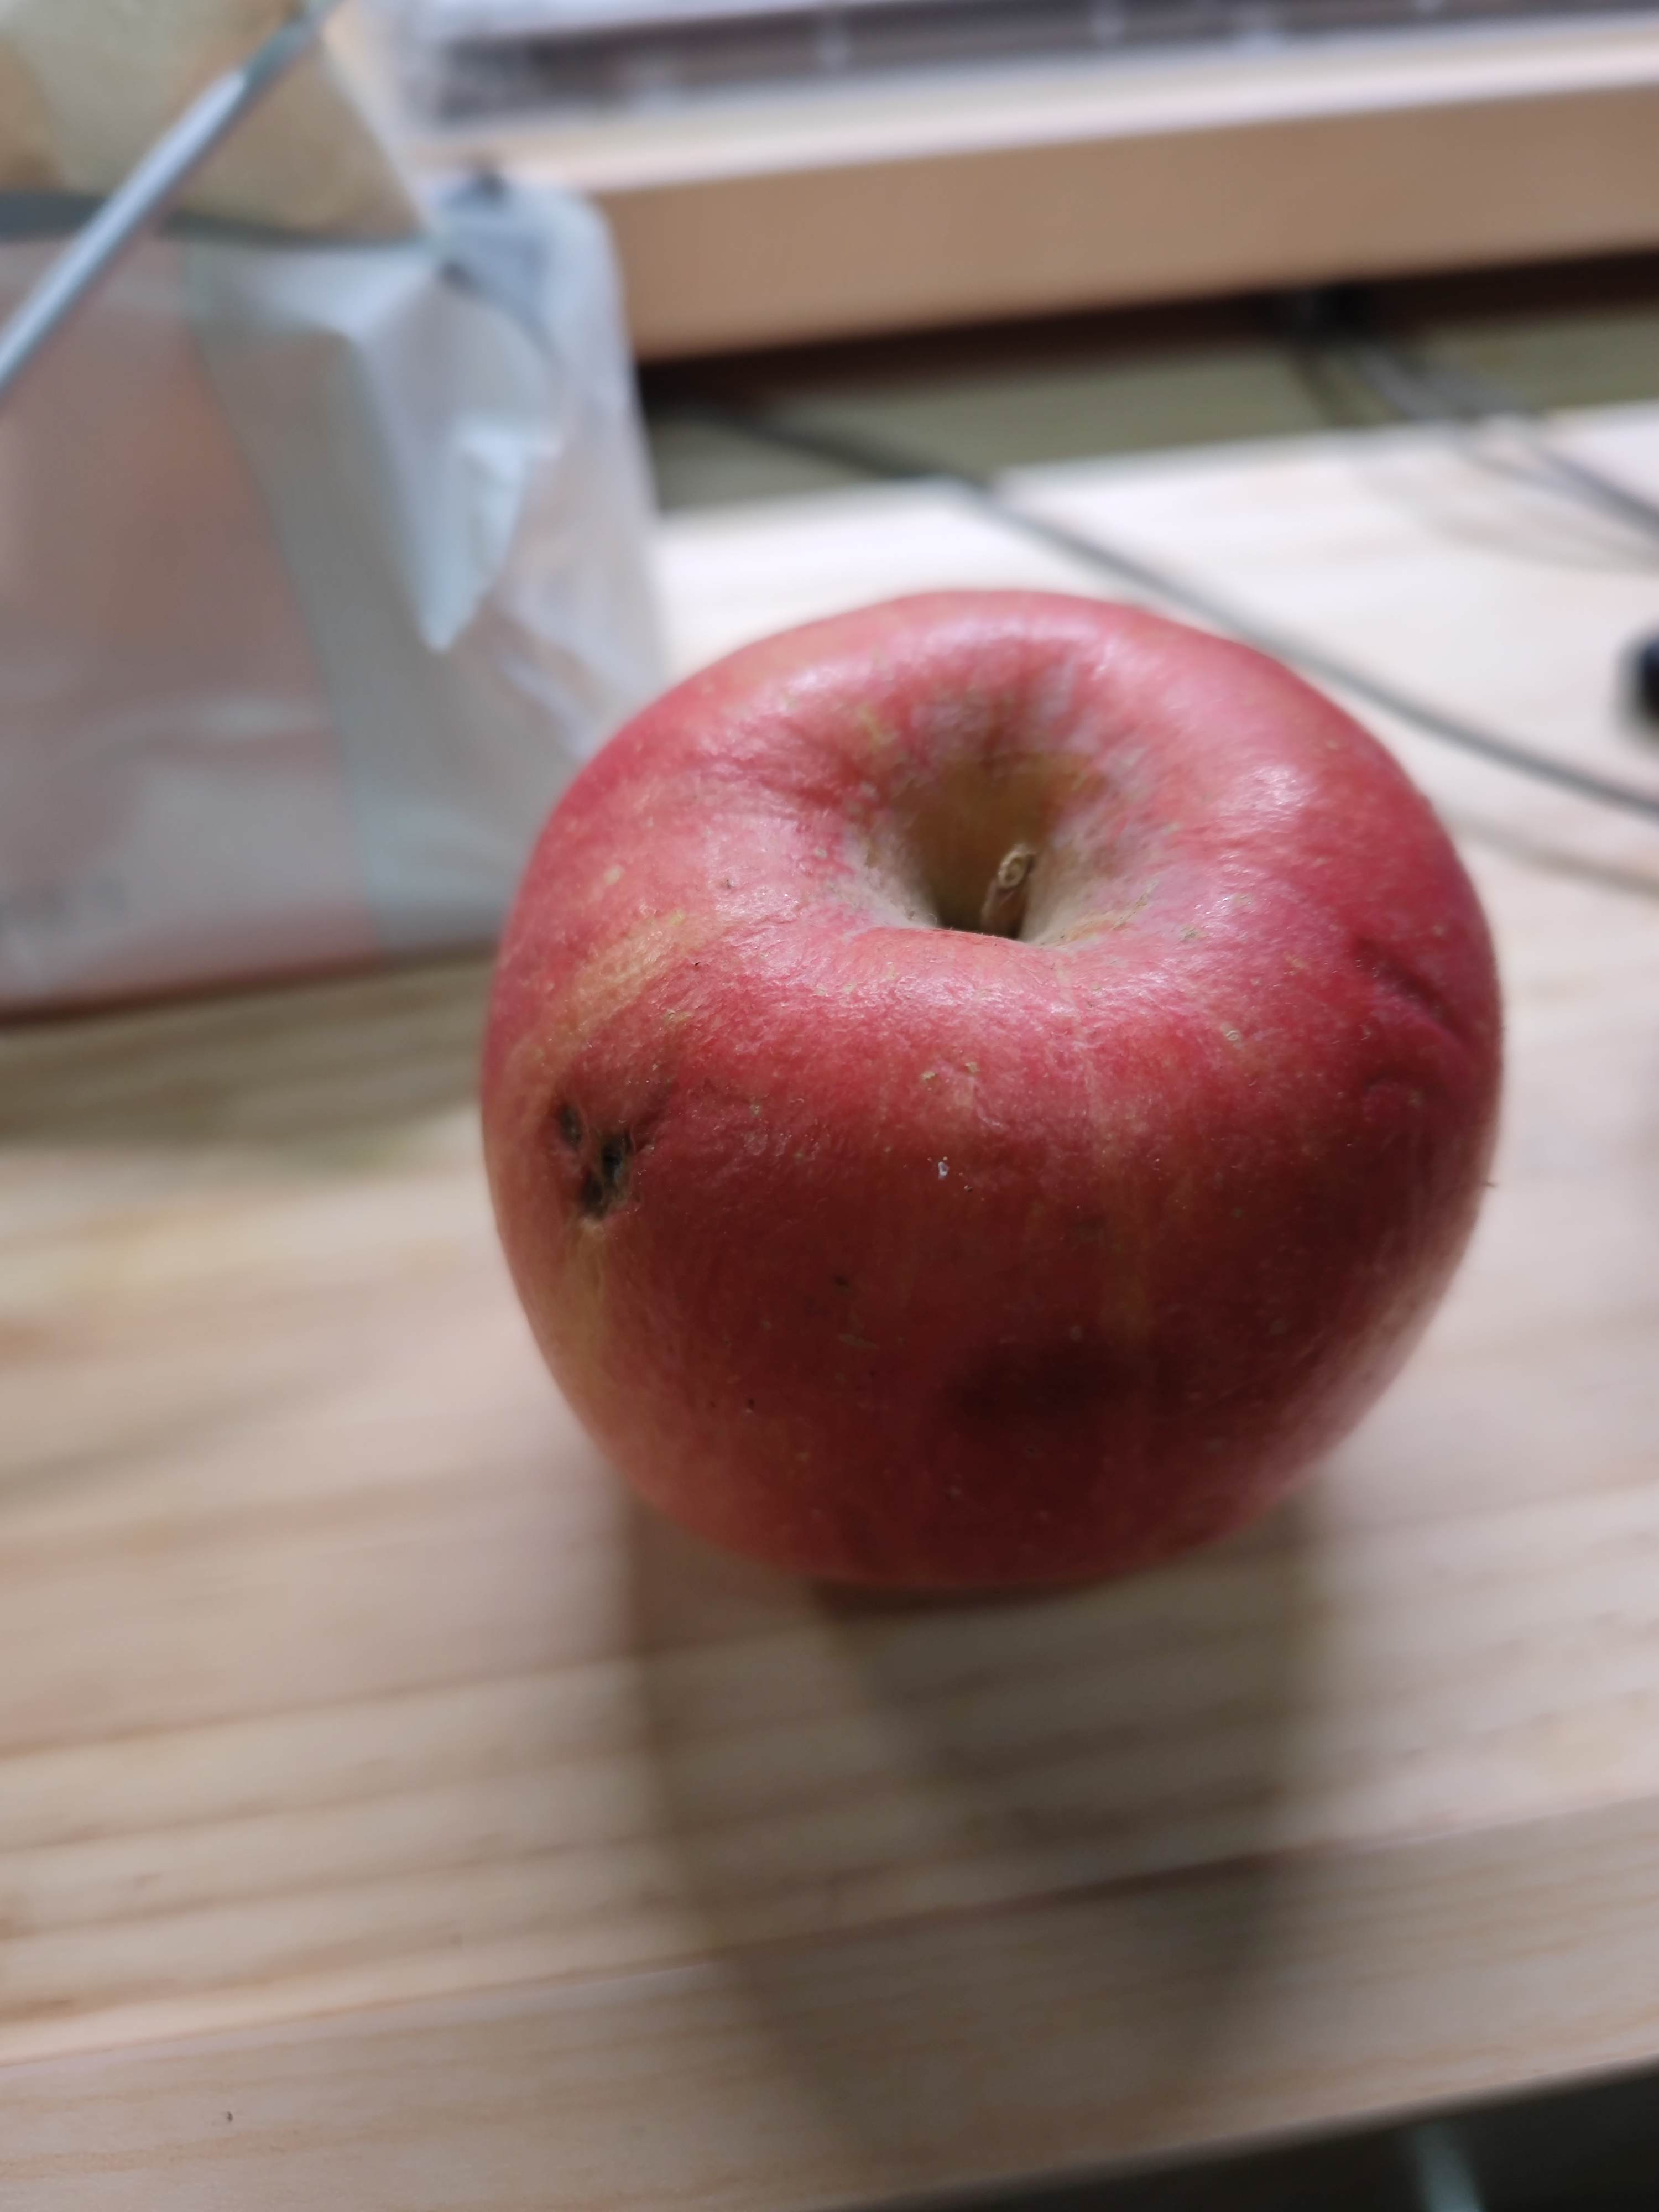apple: (486, 583, 1518, 1611)
